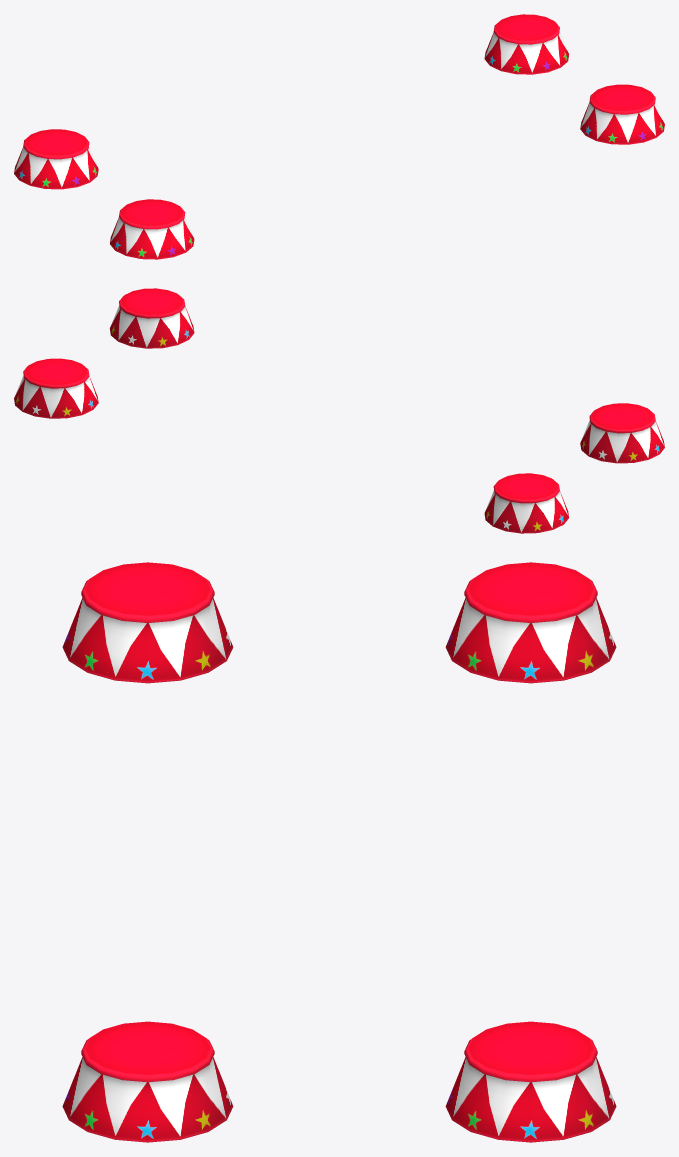
Rendered from obj_bench.gltf.
3 renders of one model, top to bottom at view 1: azimuth 30°, elevation 25°; view 2: azimuth 150°, elevation 25°; view 3: azimuth 270°, elevation 25°, orthographic. The views are drawn at different scales.
Parts seen in each view (by area): view 1: obj_bench; view 2: obj_bench; view 3: obj_bench.
Boxes of the visible parts, x1,y1,x2,y2 form: obj_bench: [14, 14, 664, 259]; obj_bench: [14, 288, 664, 533]; obj_bench: [62, 562, 616, 1142].
Size of what is drawn, in the model's own units: 10.93 by 0.6112 by 4.82.
1 material, 1 textured.
